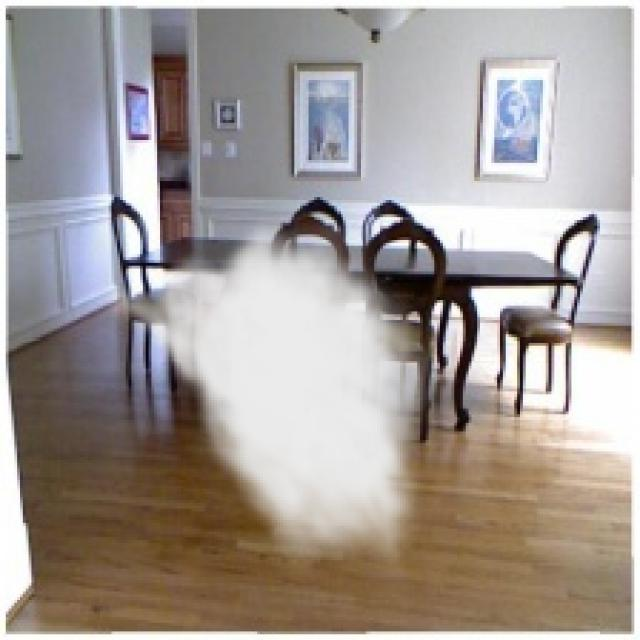smoke: (92, 211, 437, 580)
